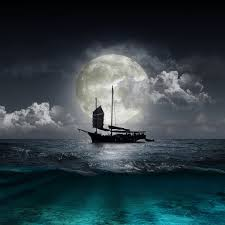boat: (77, 85, 152, 146)
